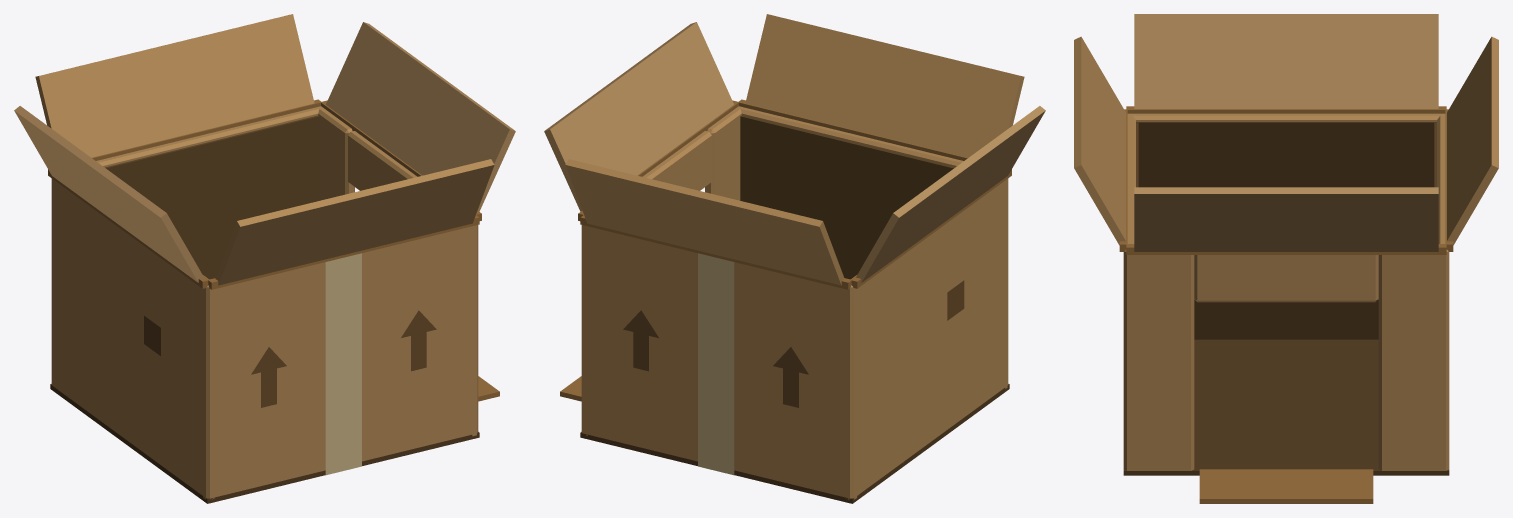
The model's file is toy-hide.glb.
3 views of the same model, side by side, from view 1: azimuth 30°, elevation 25°; view 2: azimuth 150°, elevation 25°; view 3: azimuth 270°, elevation 25° (orthographic). The views are drawn at different scales.
Visible parts, largest first — view 1: toy-hide; view 2: toy-hide; view 3: toy-hide.
Boxes of the visible parts, x1,y1,x2,y2 form: toy-hide: (14,14,515,503); toy-hide: (544,14,1045,503); toy-hide: (1074,14,1498,503).
Size of the model in its own units: 1.63 by 1.24 by 1.56.
